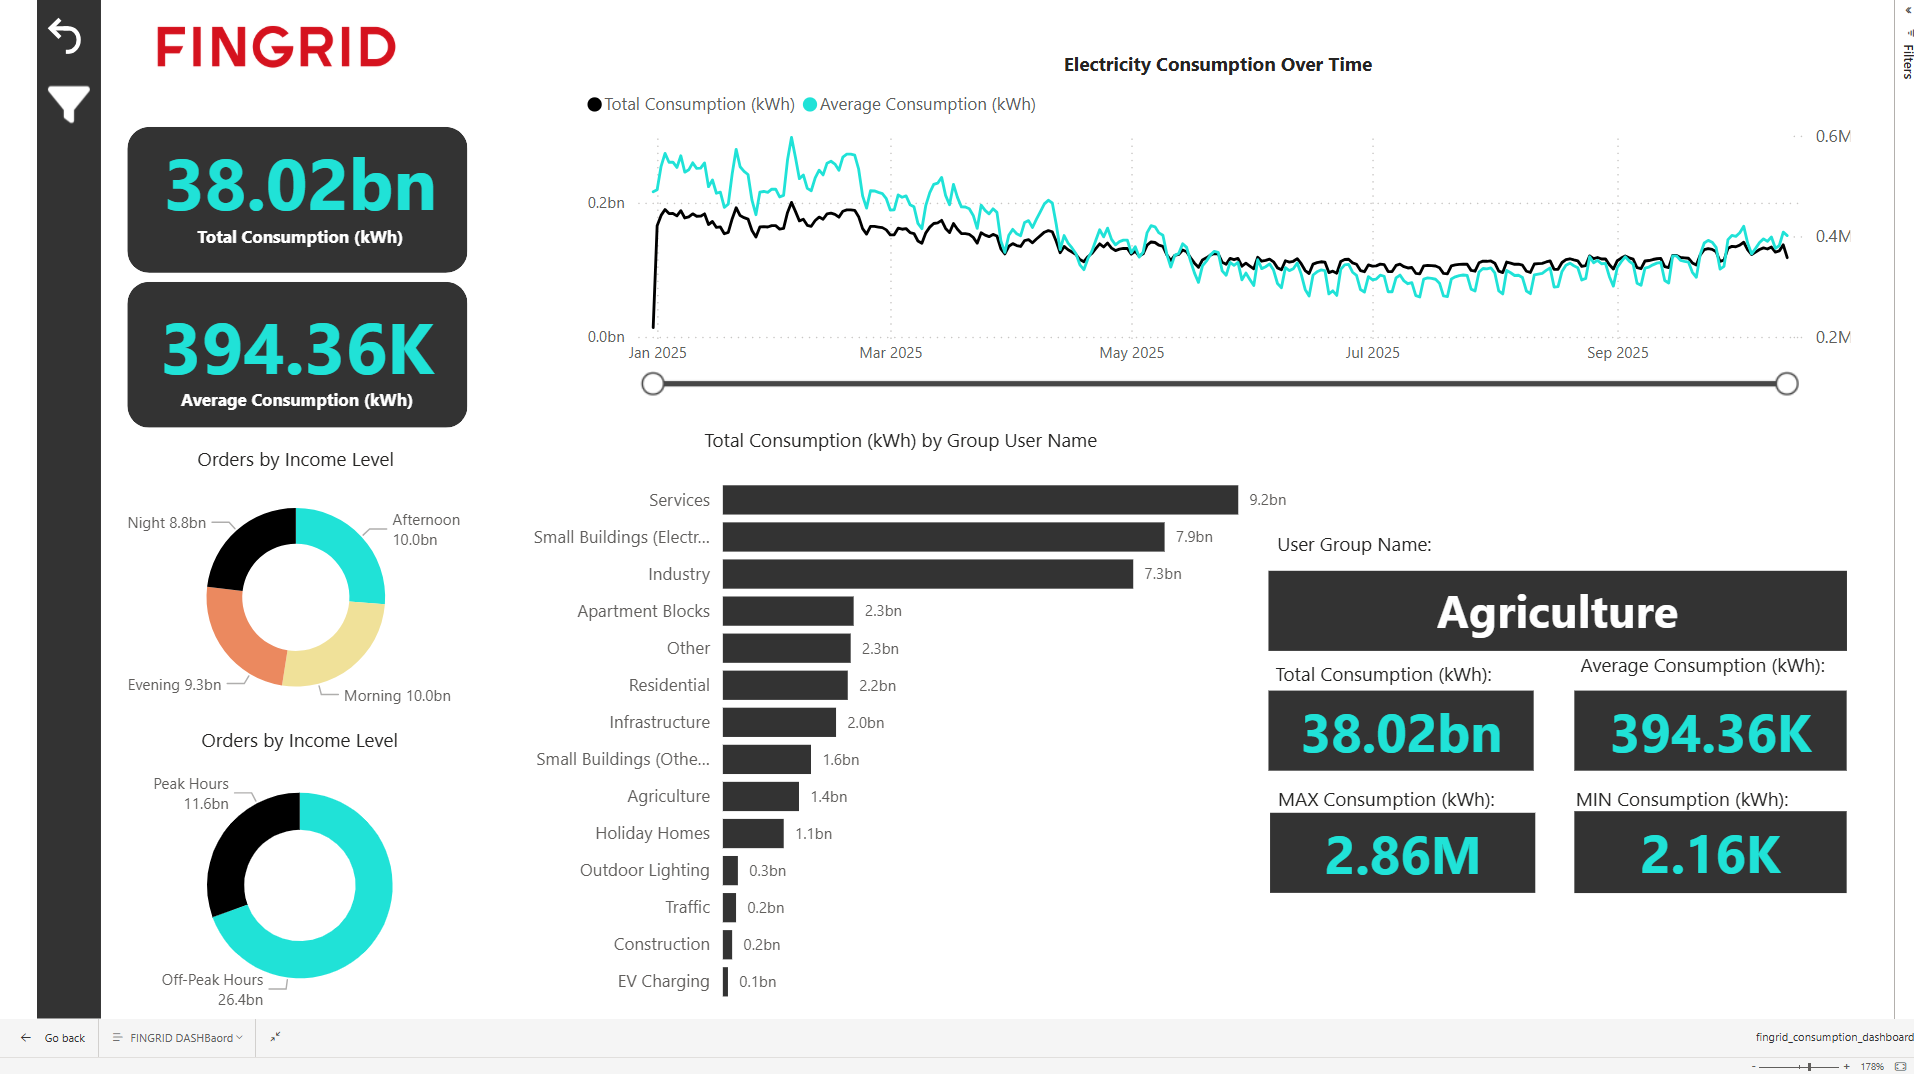

This screenshot's page, from the dashboard's own definition file:
{"tool":"powerbi","page":{"name":"FINGRID DASHBaord","canvas":[1280,720],"ordinal":0},"visuals":[{"type":"clusteredBarChart","title":"Total Consumption (kWh) by Group User Name","fields":{"Y":[" Measures.Total Consumption (kWh)"],"Category":["dim_usergroup.user_group_name"]},"box":[331.2,303.8,552.5,416.2],"z":0},{"type":"donutChart","title":"Orders by Income Level","fields":{"Category":["dim_hour.peak_description"],"Y":["Sum(fact_consumption.total_consumption_kwh)"]},"box":[51.2,515,267.5,205],"z":1000},{"type":"shape","box":[63.8,92.5,239.5,102.8],"z":2000,"group":"g1"},{"type":"donutChart","title":"Orders by Income Level","fields":{"Category":["dim_hour.period_of_day"],"Y":[" Measures.Total Consumption (kWh)"]},"box":[42.5,317.5,278.8,195],"z":2000},{"type":"lineChart","title":"Electricity Consumption Over Time","fields":{"Y":[" Measures.Total Consumption (kWh)"],"Category":["dim_date.year Hierarchy.year","dim_date.year Hierarchy.quarter","dim_date.year Hierarchy.month_name","dim_date.year Hierarchy.date","dim_date.year Hierarchy.day_of_month"],"Y2":[" Measures.Average Consumption (kWh)"]},"box":[381.2,40,898.8,245],"z":3000},{"type":"shape","box":[63.8,201.4,239.5,102.8],"z":3000,"group":"g1"},{"type":"group","id":"g1","title":"Group 2","box":[63.8,92.5,240,211.2],"z":5000},{"type":"group","id":"g2","title":"Group 1","box":[55,62.5,257.5,265],"z":6000},{"type":"card","fields":{"Values":[" Measures.Average Consumption (kWh)"]},"box":[55,177.5,255.9,149.9],"z":6000,"group":"g2"},{"type":"image","box":[75,10,186.2,52.5],"z":7000},{"type":"card","fields":{"Values":["Min(dim_usergroup.user_group_name)"]},"box":[866.2,405,406.9,56.6],"z":7000,"group":"g4"},{"type":"card","fields":{"Values":[" Measures.Total Consumption (kWh)"]},"box":[57.3,62.5,255.9,149.9],"z":8000,"group":"g2"},{"type":"group","id":"g3","title":"Group 4","box":[866.2,372.6,401.2,258.8],"z":8000},{"type":"card","fields":{"Values":[" Measures.Total Consumption (kWh)"]},"box":[866.2,489.2,187.2,56.6],"z":8000,"group":"g4"},{"type":"shape","title":"Left Nav Background","box":[0,0,45,720],"z":9000},{"type":"card","fields":{"Values":[" Measures.Average Consumption (kWh)"]},"box":[1081.3,489.2,191.8,56.6],"z":9000,"group":"g4"},{"type":"actionButton","box":[2.5,10,35,36.2],"z":10000},{"type":"textbox","box":[866.2,464.4,187.2,32.9],"z":10000,"group":"g4"},{"type":"actionButton","box":[3.8,57.5,37.5,40],"z":11000},{"type":"textbox","box":[1080.8,457.4,185.9,31.1],"z":11000,"group":"g3"},{"type":"textbox","box":[867.2,372.6,187,32.3],"z":12000,"group":"g4"},{"type":"card","fields":{"Values":[" Measures.Max Consumption (kWh)"]},"box":[867.2,575.4,187.2,56.5],"z":13000,"group":"g4"},{"type":"card","fields":{"Values":[" Measures.Min Consumption (kWh)"]},"box":[1081.6,574.5,191.4,57.4],"z":14000,"group":"g4"},{"type":"textbox","box":[867.7,551.6,187.2,32.9],"z":15000,"group":"g4"},{"type":"textbox","box":[1077.3,551.6,187.2,32.9],"z":16000,"group":"g4"},{"type":"group","id":"g4","title":"Group 3","box":[866.2,372.6,400.2,259.3],"z":17001,"group":"g3"}]}

Visuals, with their boxes in screenshot pixels (x1, y1, x2, y2):
"Total Consumption (kWh) by Group User Name" clusteredBarChart: <box>516,406,1327,1017</box>
"Orders by Income Level" donutChart: <box>105,716,498,1017</box>
shape: <box>124,96,475,247</box>
"Orders by Income Level" donutChart: <box>92,426,502,712</box>
"Electricity Consumption Over Time" lineChart: <box>589,19,1909,378</box>
shape: <box>124,256,475,407</box>
"Group 2" group: <box>124,96,476,406</box>
"Group 1" group: <box>111,52,489,441</box>
card -  Measures.Average Consumption (kWh): <box>111,221,486,441</box>
image: <box>140,0,413,52</box>
card - Min(dim_usergroup.user_group_name): <box>1301,555,1899,638</box>
card -  Measures.Total Consumption (kWh): <box>114,52,490,272</box>
"Group 4" group: <box>1301,507,1890,887</box>
card -  Measures.Total Consumption (kWh): <box>1301,678,1576,761</box>
"Left Nav Background" shape: <box>30,0,96,1017</box>
card -  Measures.Average Consumption (kWh): <box>1617,678,1899,761</box>
actionButton: <box>34,0,85,28</box>
textbox: <box>1301,642,1576,690</box>
actionButton: <box>35,45,91,103</box>
textbox: <box>1616,631,1889,677</box>
textbox: <box>1303,507,1577,554</box>
card -  Measures.Max Consumption (kWh): <box>1303,805,1578,888</box>
card -  Measures.Min Consumption (kWh): <box>1617,803,1898,888</box>
textbox: <box>1304,770,1578,818</box>
textbox: <box>1611,770,1886,818</box>
"Group 3" group: <box>1301,507,1889,888</box>
